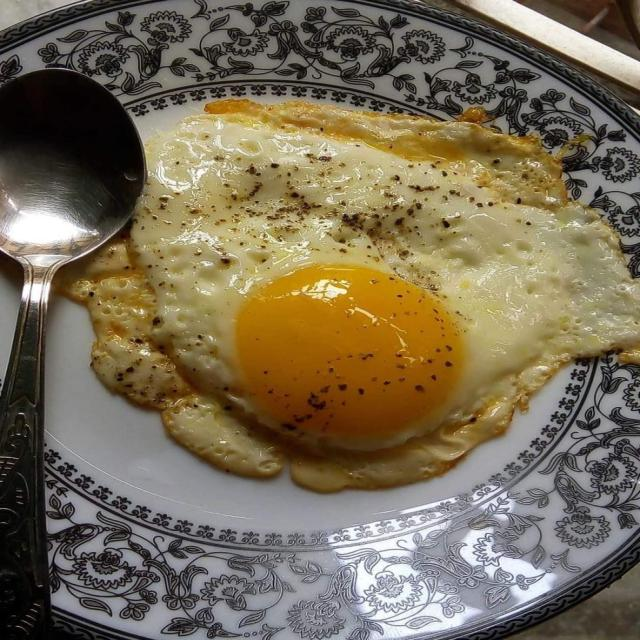fryed egg: (76, 102, 639, 490)
